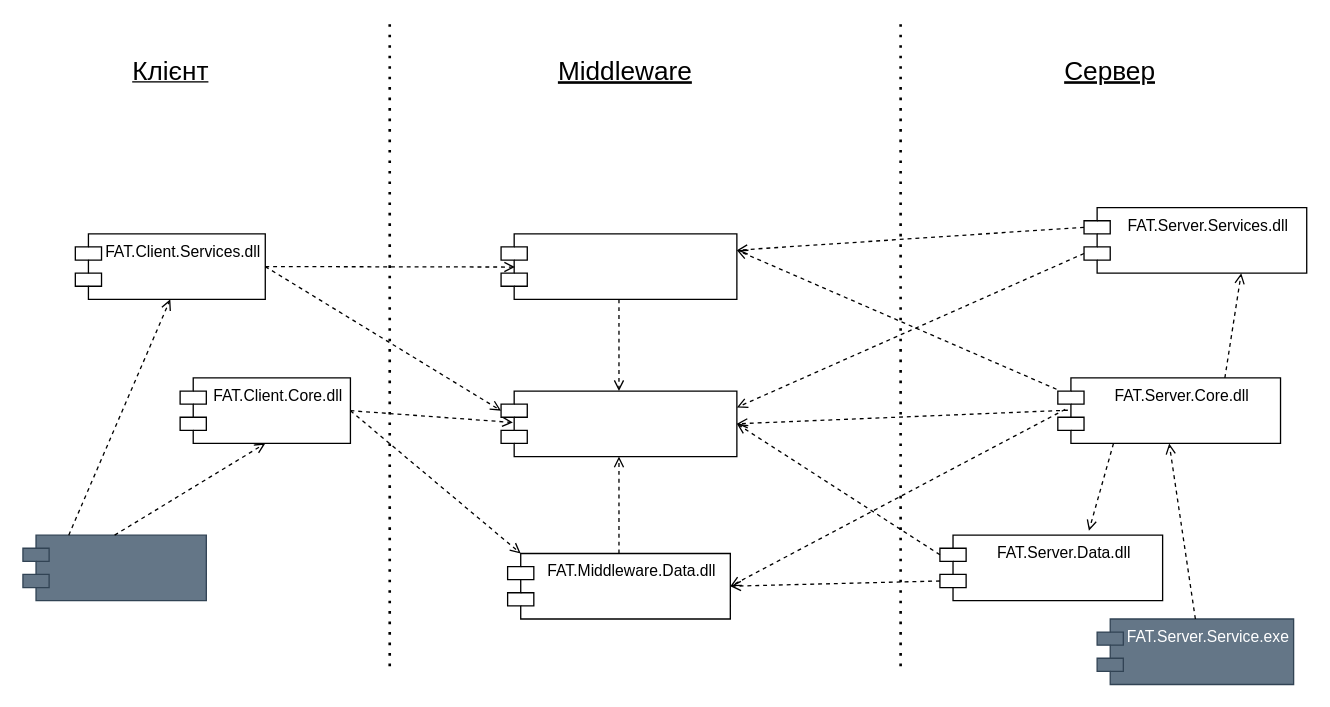
This 1330x707 diagram has some shape labels left out. Here are the shapes that lost their labels. From the top down, the centre of each, then its label:
At (x=618, y=266): "FAT.Middleware.Utils.dll".
At (x=618, y=423): "FAT.Middleware.Interfaces.dll".
At (x=114, y=567): "FAT.Client.GUI.exe".
